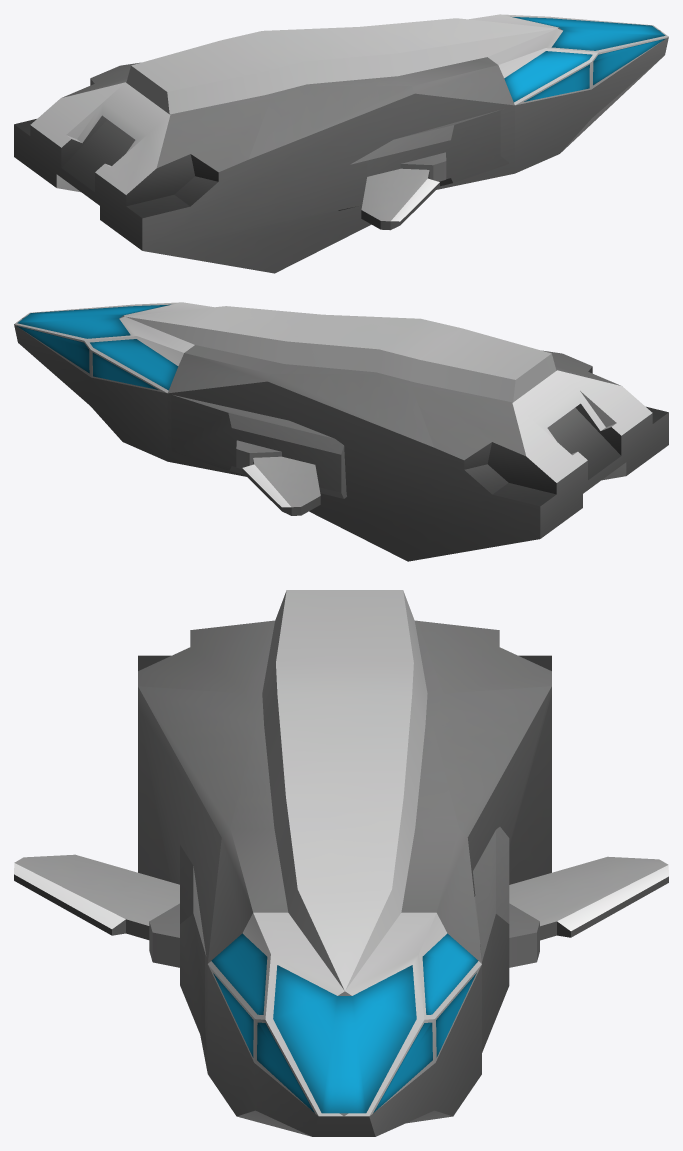
The model's file is hull2.fbx.
The picture shows the model from 3 angles, top to bottom: view 1: azimuth 30°, elevation 25°; view 2: azimuth 150°, elevation 25°; view 3: azimuth 270°, elevation 25°; orthographic projection. The views are drawn at different scales.
Visible parts, largest first — view 1: hull2.0, hull2.001; view 2: hull2.0, hull2.001; view 3: hull2.0, hull2.001.
Part boxes in pixels (x1,y1,x2,y2): hull2.0: [14, 14, 668, 273]; hull2.001: [126, 18, 556, 114]; hull2.0: [14, 302, 668, 561]; hull2.001: [125, 306, 556, 402]; hull2.0: [14, 620, 668, 1136]; hull2.001: [262, 590, 427, 990].
Bounding box in the file's own units: 3.95 × 1.06 × 2.39.
